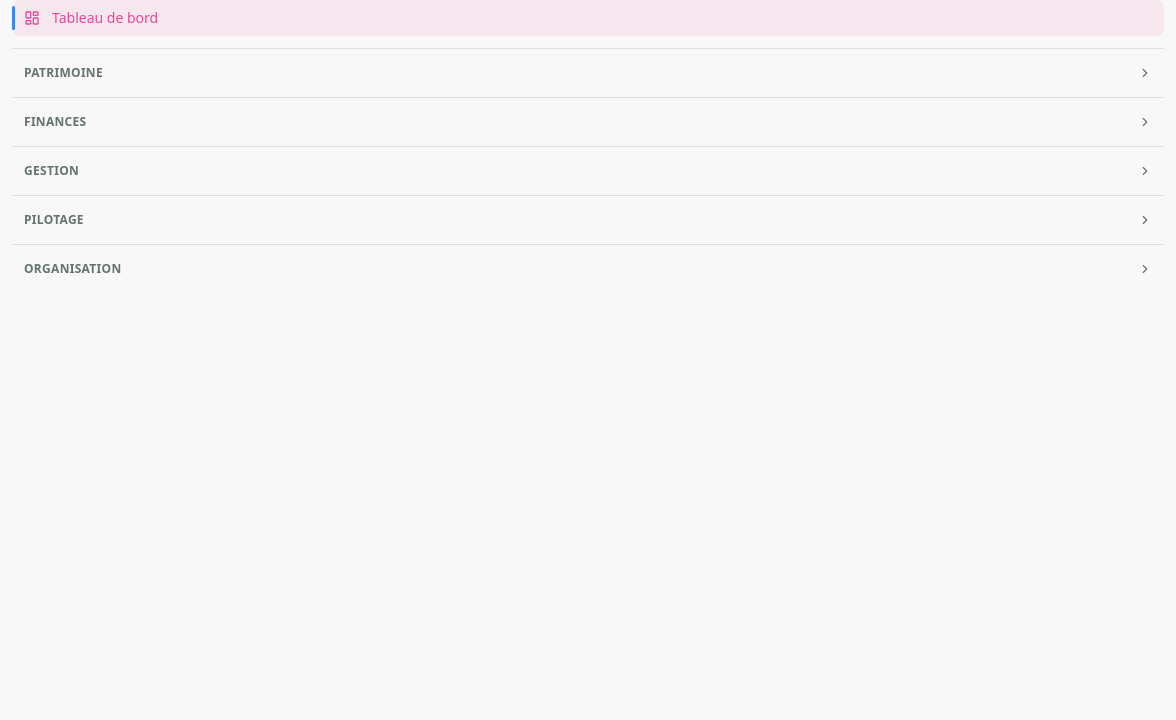
Test: SidebarNavList — groupes repliables (accordéon) › ouvrir un groupe referme celui qui était ouvert
Step 1. Click the button "Patrimoine" → (63, 72), box [12,61,1164,85]
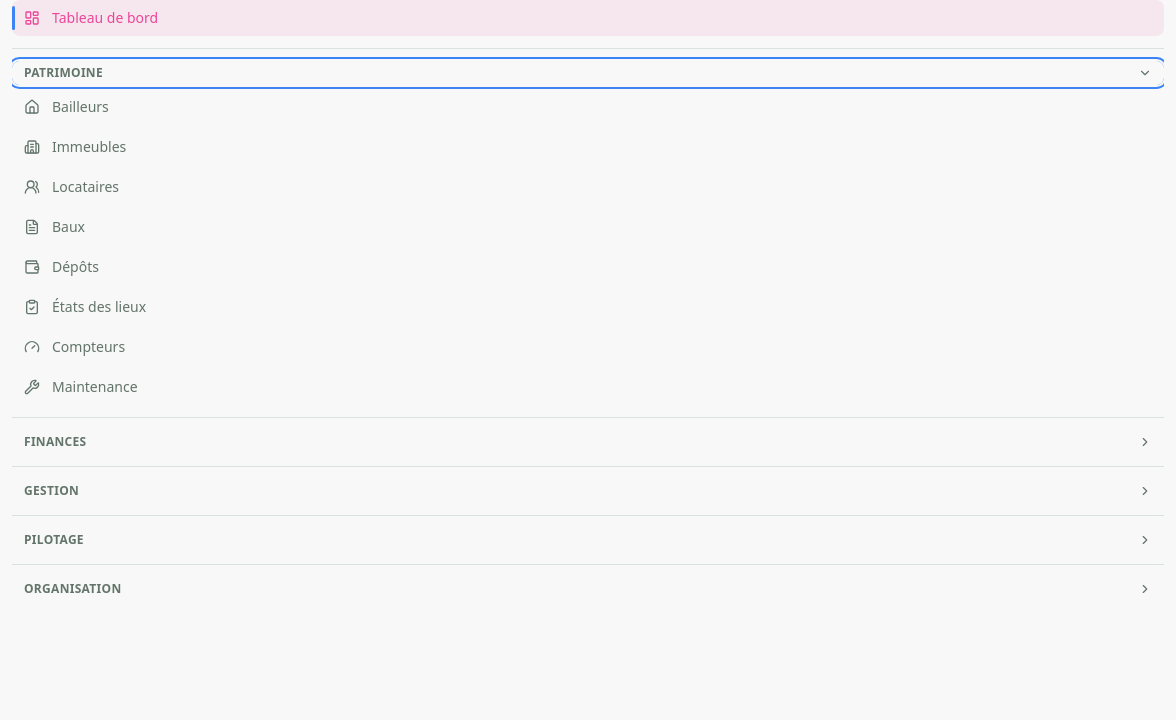
Expected: the button "Patrimoine" is expanded, [12,61,1164,85]
Step 2. Click the button "Finances" → (55, 442), box [12,430,1164,454]
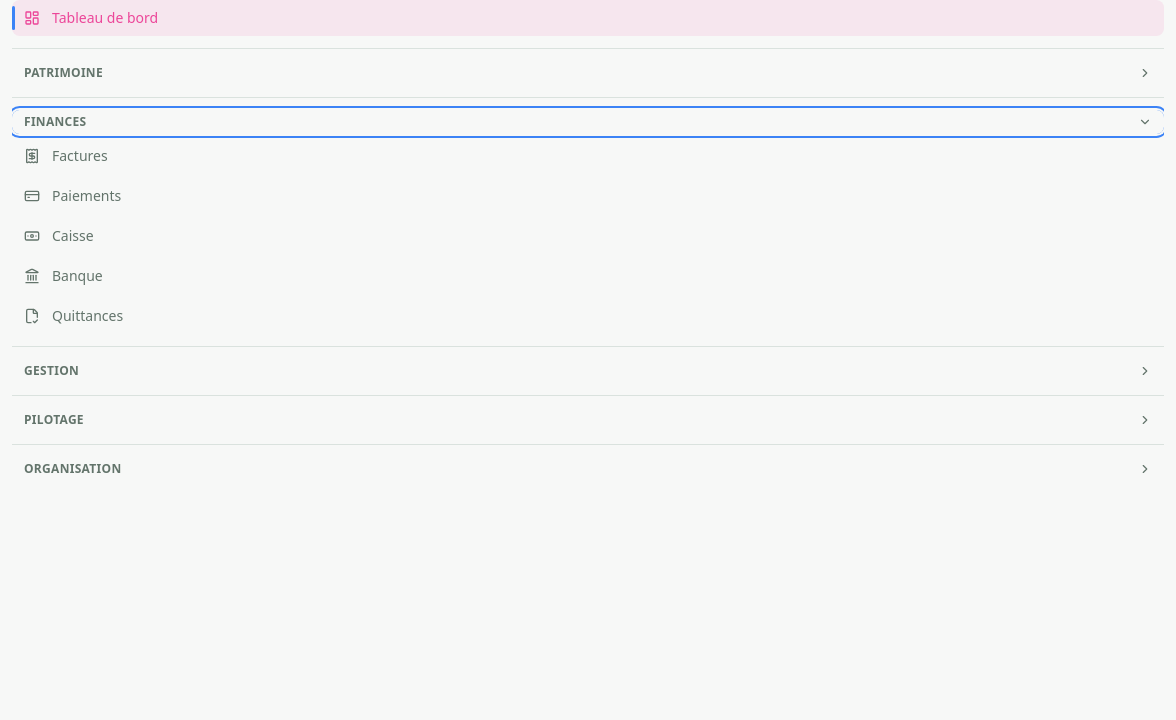
Expected: the button "Finances" is expanded, [12,110,1164,134]
Expected: the button "Patrimoine" is collapsed, [12,61,1164,85]
Expected: the link "Bailleurs" is gone
